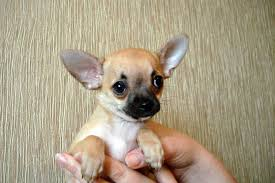chihuahua: (39, 17, 199, 178)
